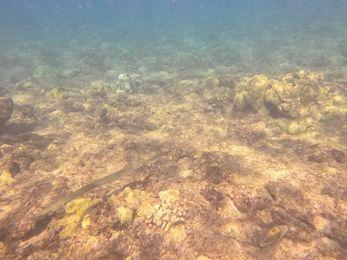Fistularia commersonii: (29, 145, 182, 215)
